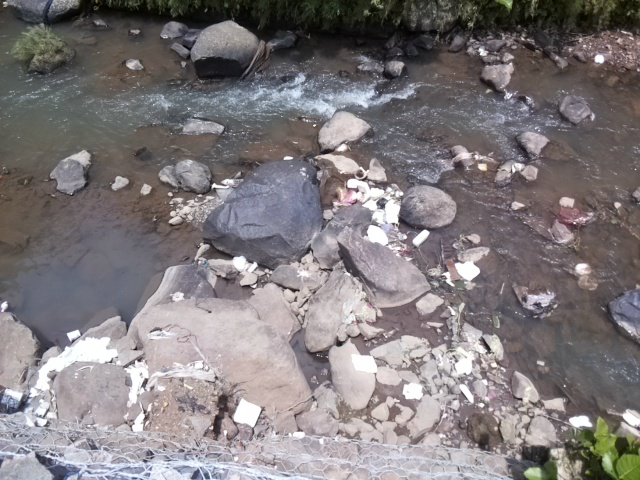Sampah_Plastik: (27, 334, 116, 405), (126, 361, 221, 404), (558, 206, 593, 227), (335, 189, 358, 205), (232, 253, 249, 272), (375, 196, 389, 208)
Sampah_Styrofoam: (233, 398, 260, 429), (348, 351, 380, 375), (453, 259, 482, 283), (363, 223, 389, 245), (384, 199, 402, 224), (411, 227, 432, 248), (401, 381, 424, 400), (358, 180, 371, 203), (346, 178, 358, 188), (370, 187, 383, 196)
